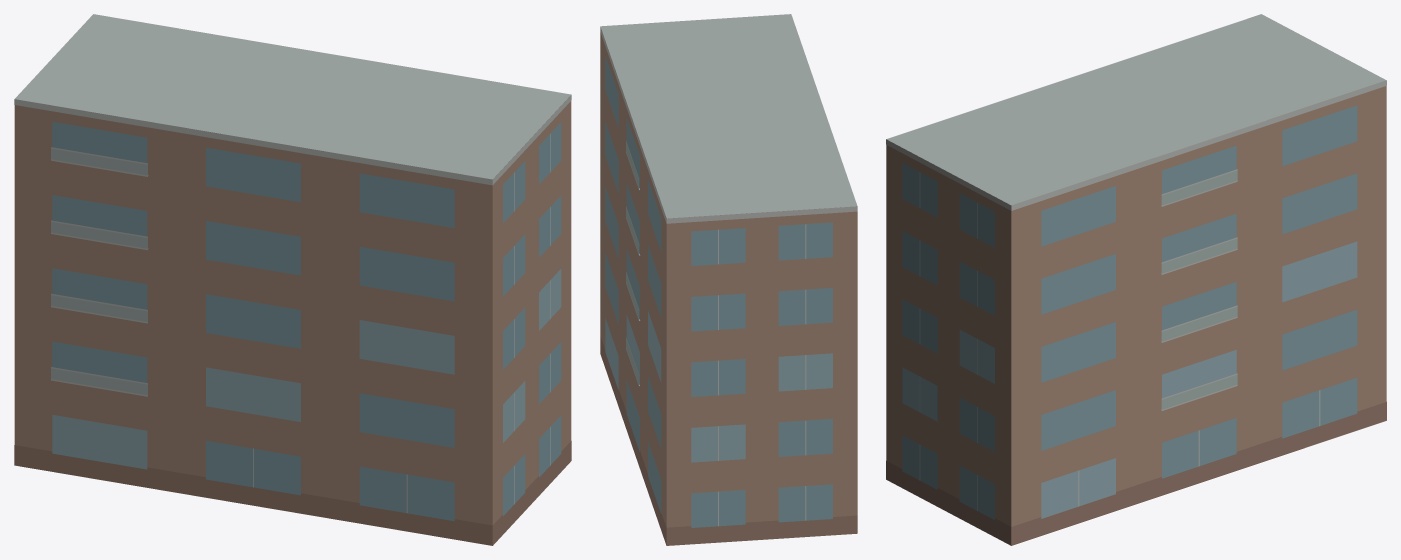
Rendered from survey-upis-32996071.glb.
The picture shows the model from 3 angles, left to right: view 1: azimuth 30°, elevation 25°; view 2: azimuth 150°, elevation 25°; view 3: azimuth 270°, elevation 25°; orthographic projection. The views are drawn at different scales.
Visible parts, largest first — view 1: survey-upis-32996071.tmp; view 2: survey-upis-32996071.tmp; view 3: survey-upis-32996071.tmp.
Boxes of the visible parts, x1,y1,x2,y2 form: survey-upis-32996071.tmp: (14,14,571,545); survey-upis-32996071.tmp: (600,14,857,545); survey-upis-32996071.tmp: (886,14,1386,545).
Bounding box in the file's own units: 18.47 × 15.3 × 20.4.
